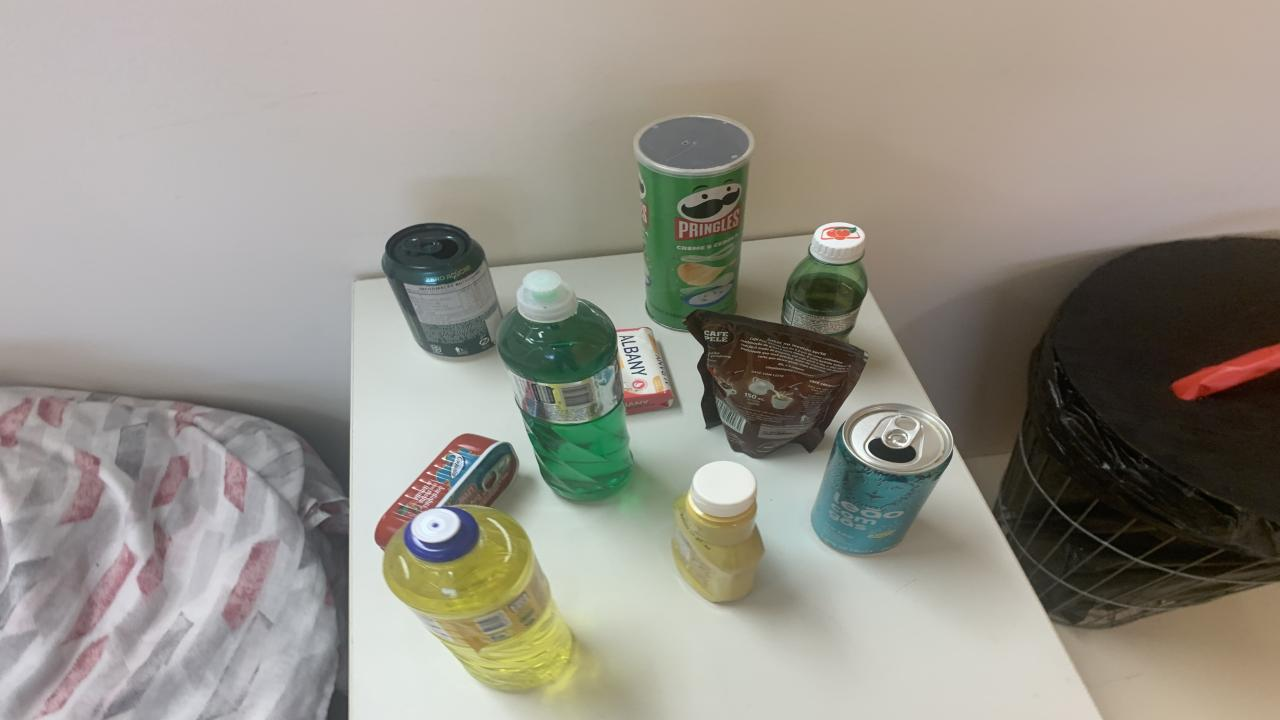Coffee-Pantry_Items: (685, 313, 868, 458)
Detergent-Cleanup_Items: (382, 506, 572, 690), (498, 270, 632, 501)
Guarana-Drinks: (782, 221, 868, 341)
Guarana_Can-Drinks: (382, 223, 502, 358)
Mustard-Pantry_Items: (672, 461, 765, 602)
Pringles-Snacks: (635, 112, 755, 330)
Soap-Cleanup_Items: (618, 328, 675, 414)
Tea-Drinks: (812, 403, 955, 553)
Tuna_Can-Pantry_Items: (375, 433, 518, 548)
